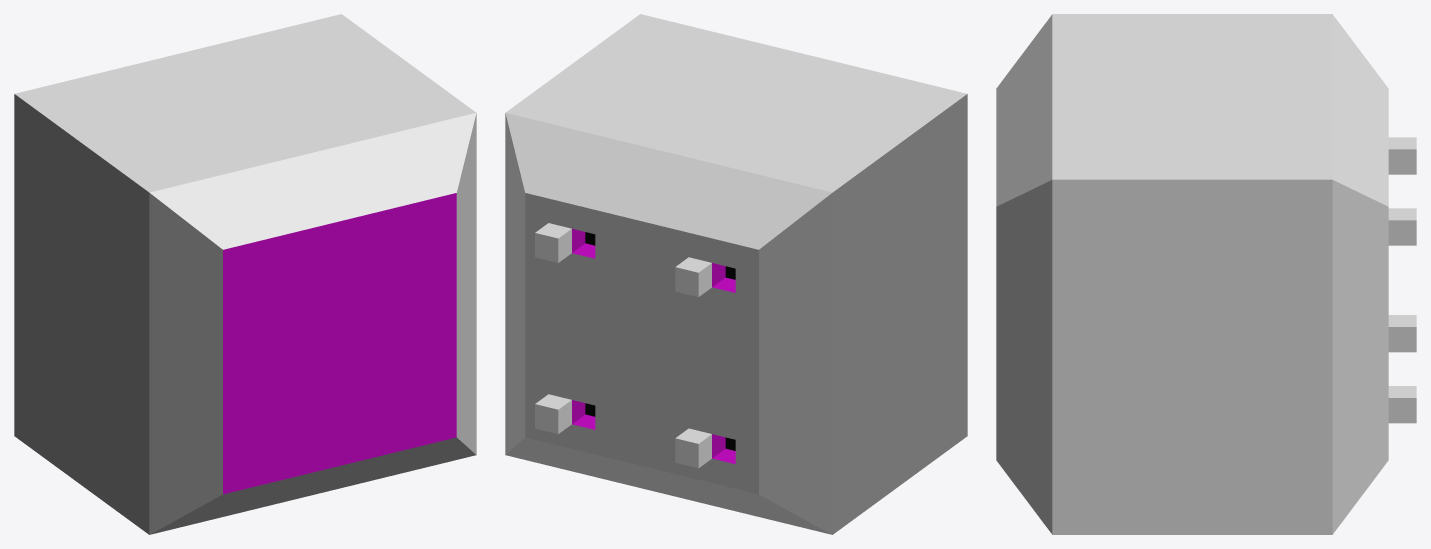
File: br-m-cubeplate-white.fbx
3 views of the same model, side by side, from view 1: azimuth 30°, elevation 25°; view 2: azimuth 150°, elevation 25°; view 3: azimuth 270°, elevation 25° (orthographic). The views are drawn at different scales.
Parts seen in each view (by area): view 1: cubePlate_white2; view 2: cubePlate_white2; view 3: cubePlate_white2.
Boxes of the visible parts, bbox=[...] form: cubePlate_white2: bbox=[14, 14, 476, 534]; cubePlate_white2: bbox=[505, 14, 967, 534]; cubePlate_white2: bbox=[996, 14, 1416, 534].
Bounding box in the file's own units: 0.875 × 0.875 × 0.9375.
